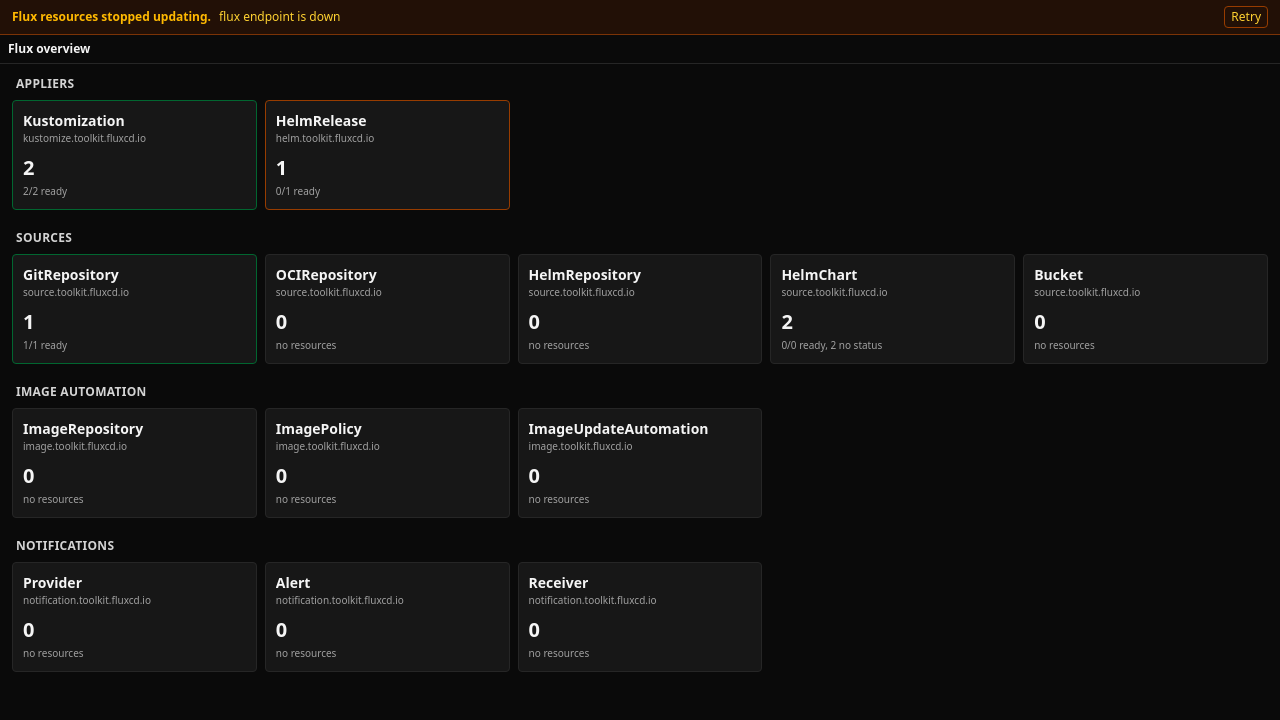
Test: FluxRoles › carries the staleness notice into a kind list
The image size is (1280, 720).
Step 1. Click the button "Kustomization kustomize.toolkit.fluxcd.io 2 2/2 ready" → click(134, 155), box top-left (12, 100), bottom-right (257, 210)
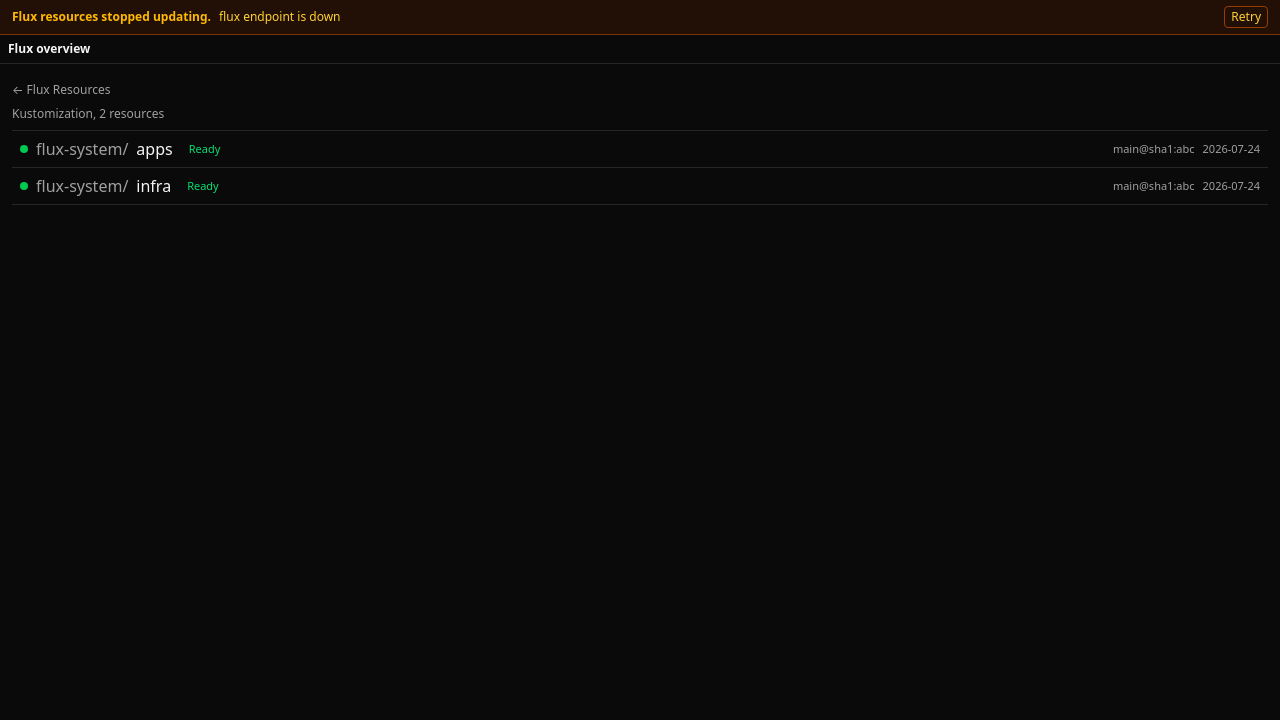
Expected: the message shows "flux endpoint is down", top-left (219, 8), bottom-right (340, 25)
Now the text "Kustomization, 2 resources" is shown, box top-left (12, 105), bottom-right (164, 122)
